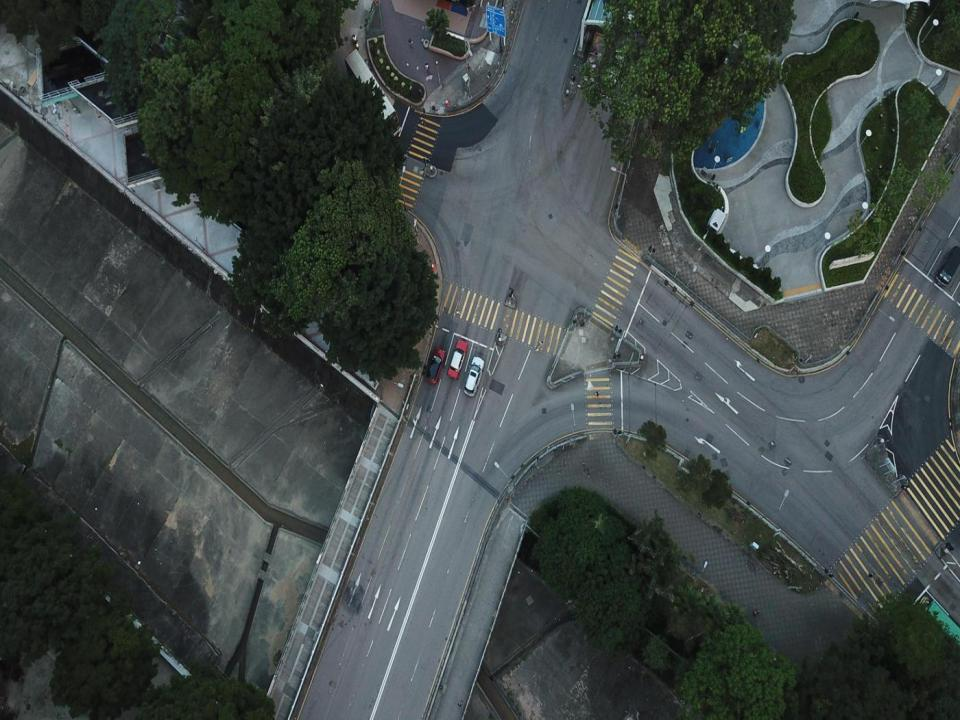bus: (344, 48, 401, 137), (918, 597, 959, 647), (336, 346, 379, 390)
car: (447, 339, 468, 379), (464, 356, 484, 397), (425, 347, 445, 385)
van: (936, 246, 960, 288)
